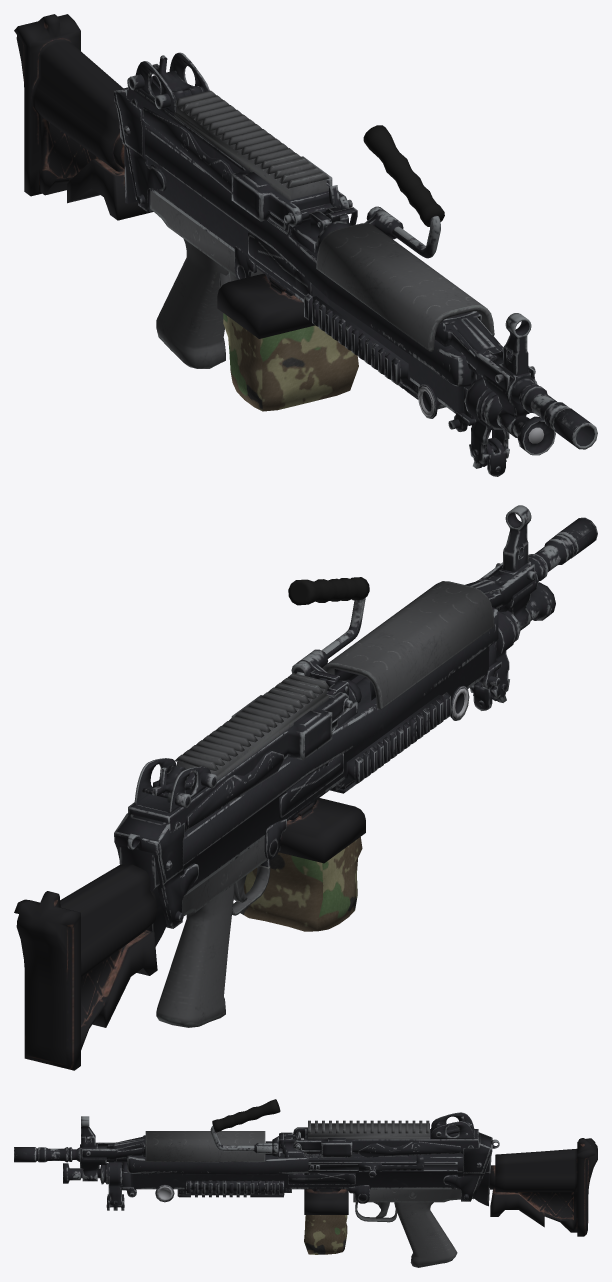
The model's file is Logicer.gltf.
3 views of the same model, one above another, from view 1: azimuth 30°, elevation 25°; view 2: azimuth 150°, elevation 25°; view 3: azimuth 270°, elevation 25° (orthographic). The views are drawn at different scales.
Visible parts, largest first — view 1: M249_lowpoly_M249 Gun_0; view 2: M249_lowpoly_M249 Gun_0; view 3: M249_lowpoly_M249 Gun_0.
Part boxes in pixels (<box>): M249_lowpoly_M249 Gun_0: <box>14,14,597,476</box>; M249_lowpoly_M249 Gun_0: <box>14,505,597,1070</box>; M249_lowpoly_M249 Gun_0: <box>14,1099,597,1267</box>.
Size of the model in its own units: 1.09 by 3.21 by 9.69.
1 material, 1 textured.
